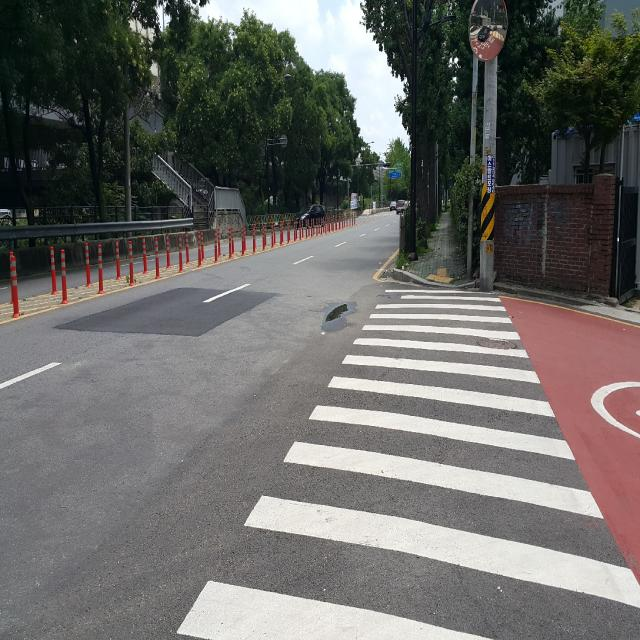횡단보도: (175, 289, 640, 638)
